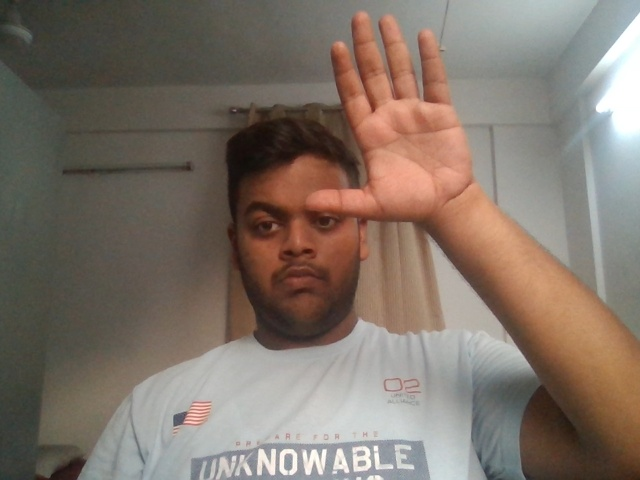Hello: (293, 2, 529, 260)
